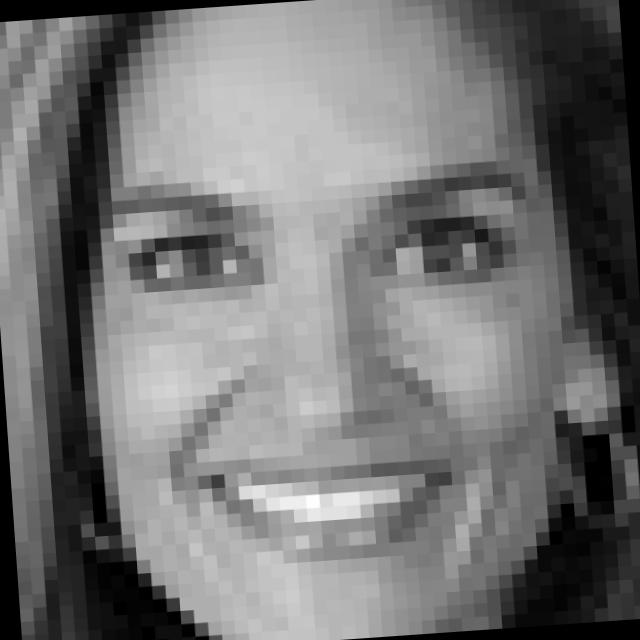happy: (98, 152, 574, 586)
